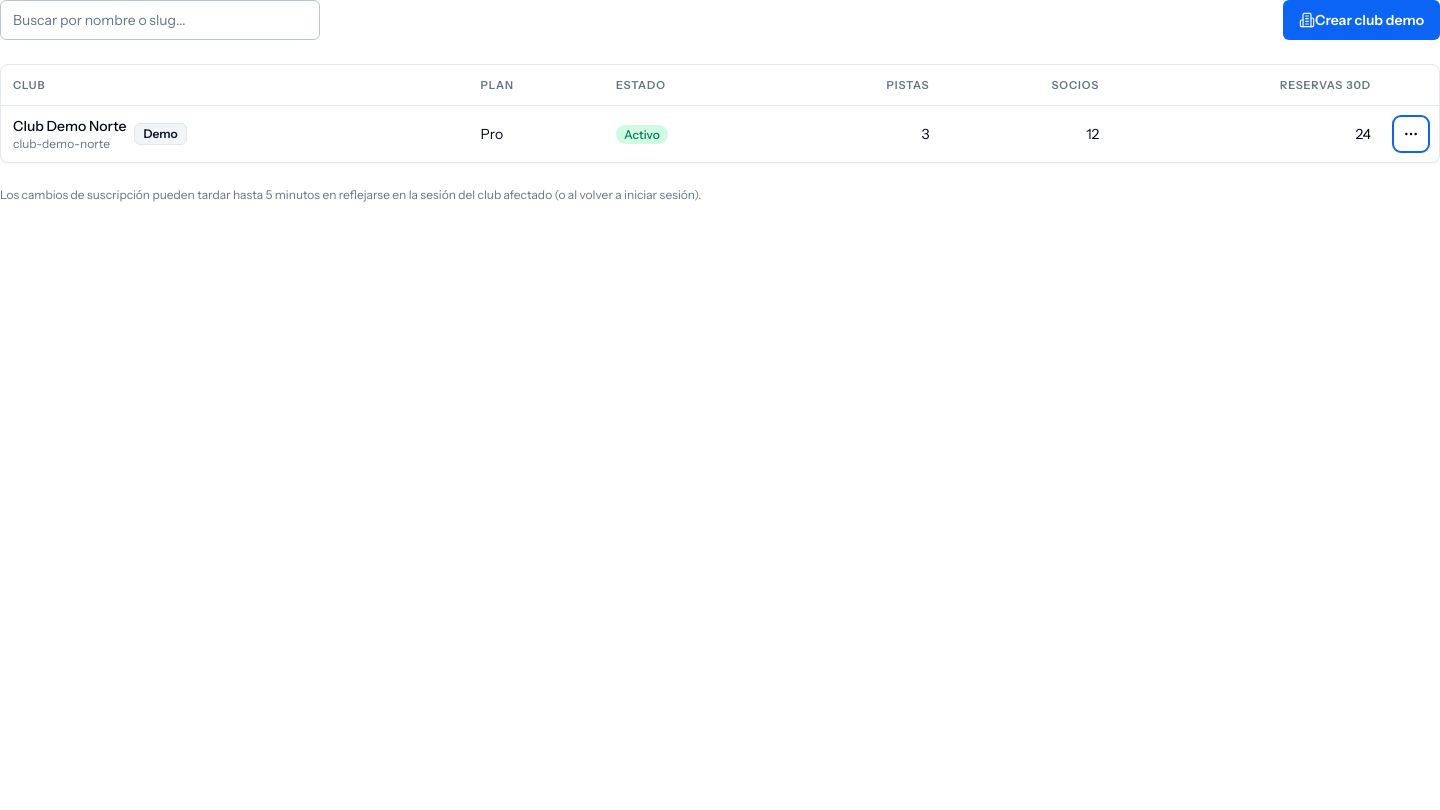
Test: ClubsClient › exige escribir el nombre exacto antes de eliminar un club demo
Press Enter in the button named "Acciones de Club Demo Norte", box [1395,118,1427,150]
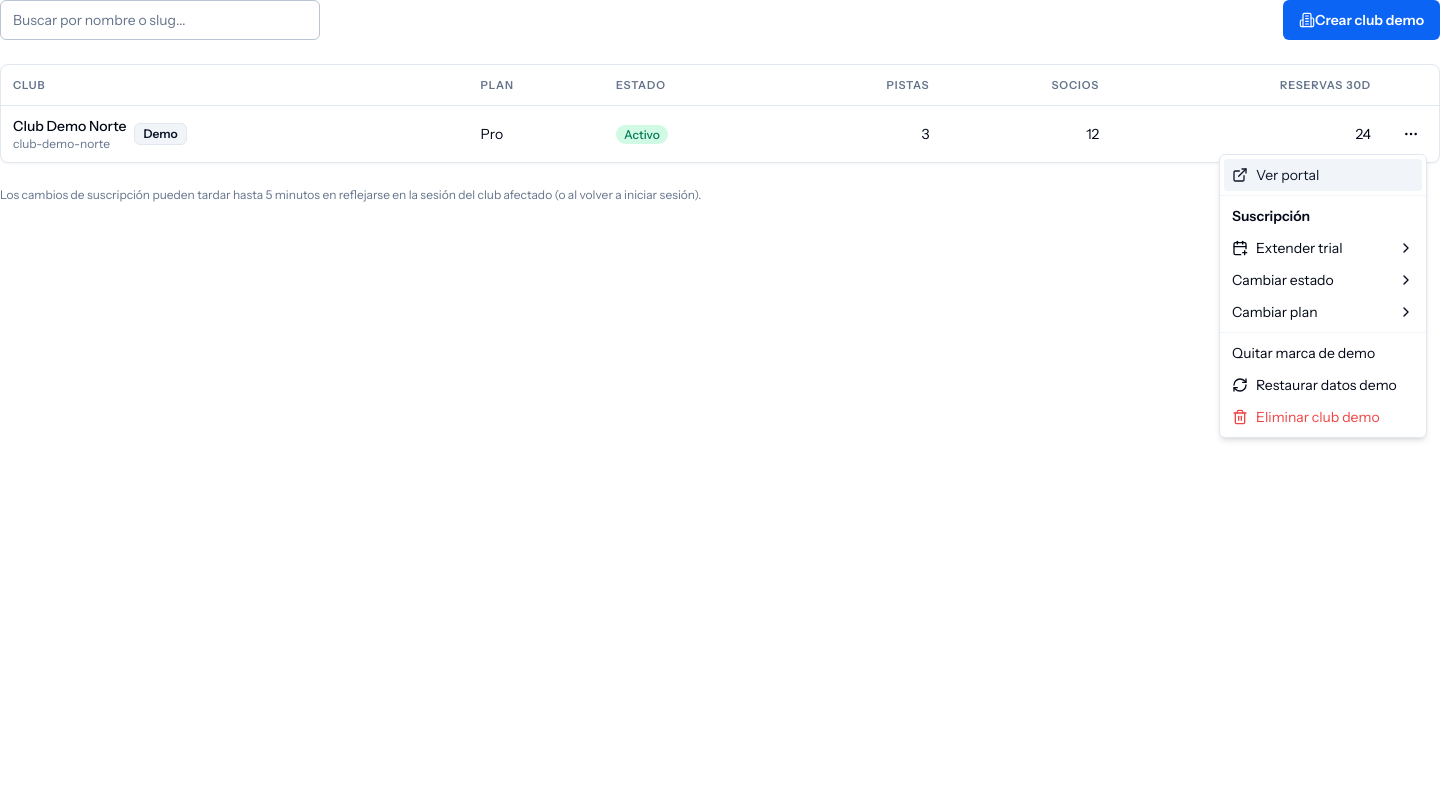
Click the menu item "Eliminar club demo" at (1306, 417), box [1232,408,1380,426]
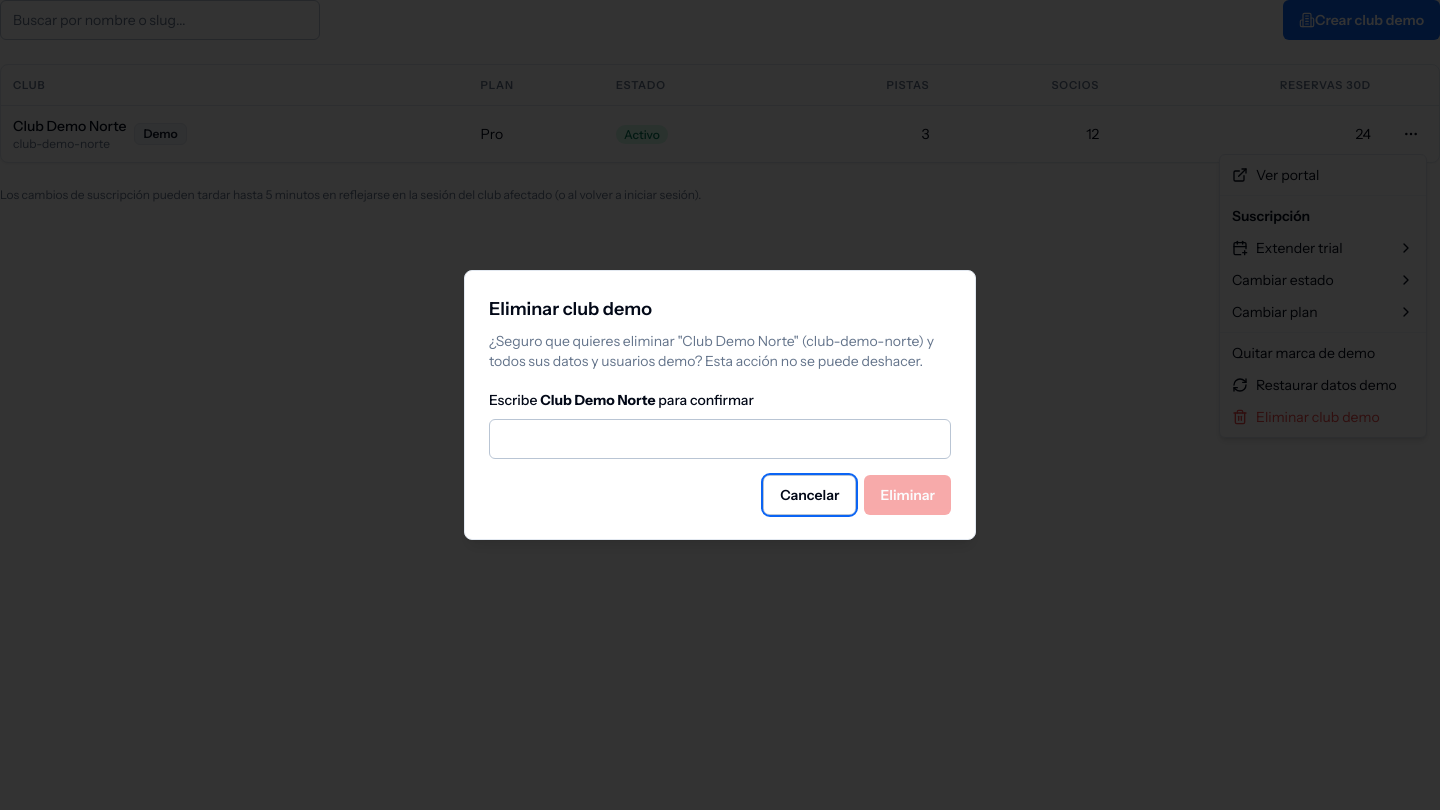
Result: the button "Eliminar" is disabled at [864,475,951,515]
Type "Club Demo" into the field labelled "Escribe Club Demo Norte para confirmar" at (720, 439), box [489,419,951,459]
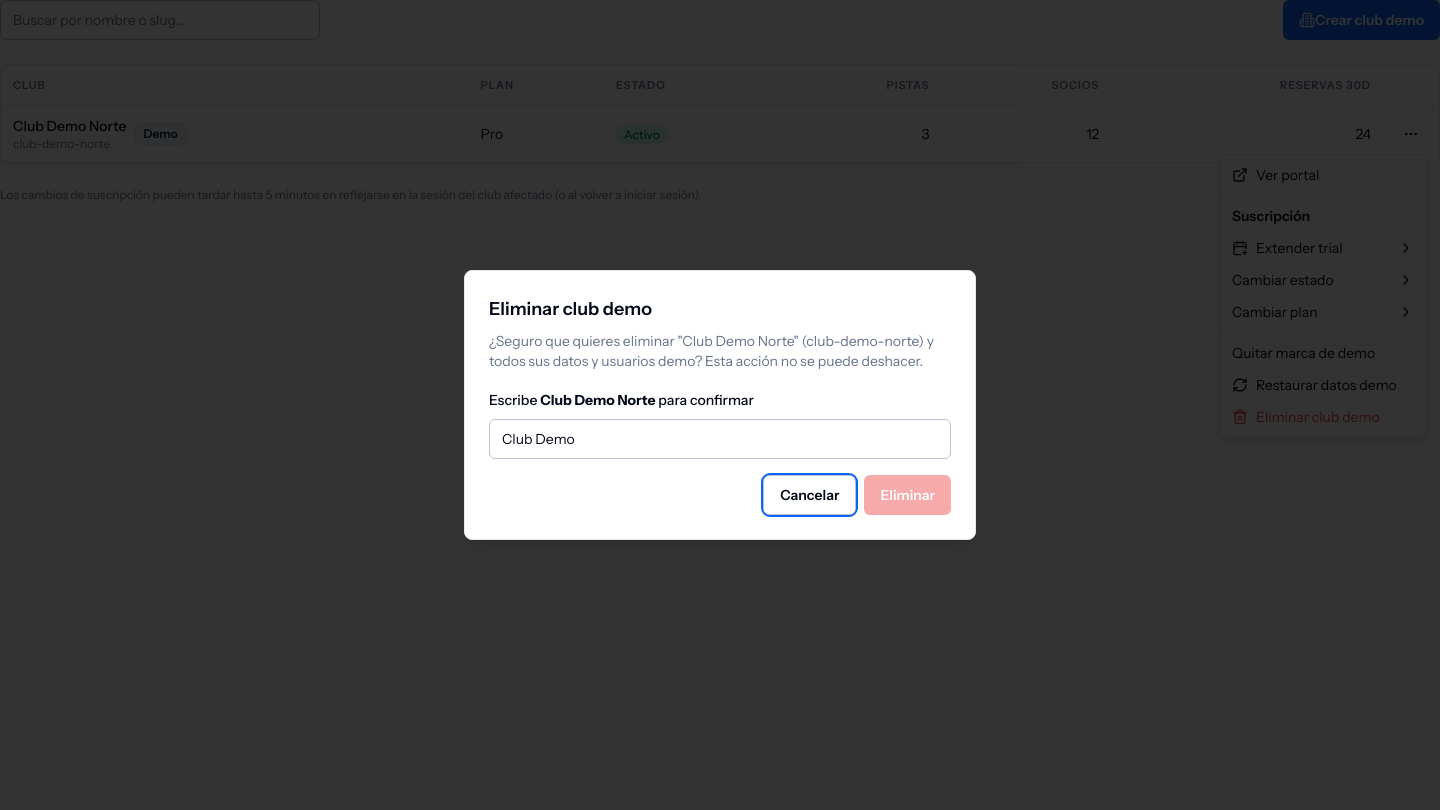
Result: the button "Eliminar" is disabled at [864,475,951,515]
Replace the text in the field labelled "Escribe Club Demo Norte para confirmar" with "Club Demo Norte" at (720, 439), box [489,419,951,459]
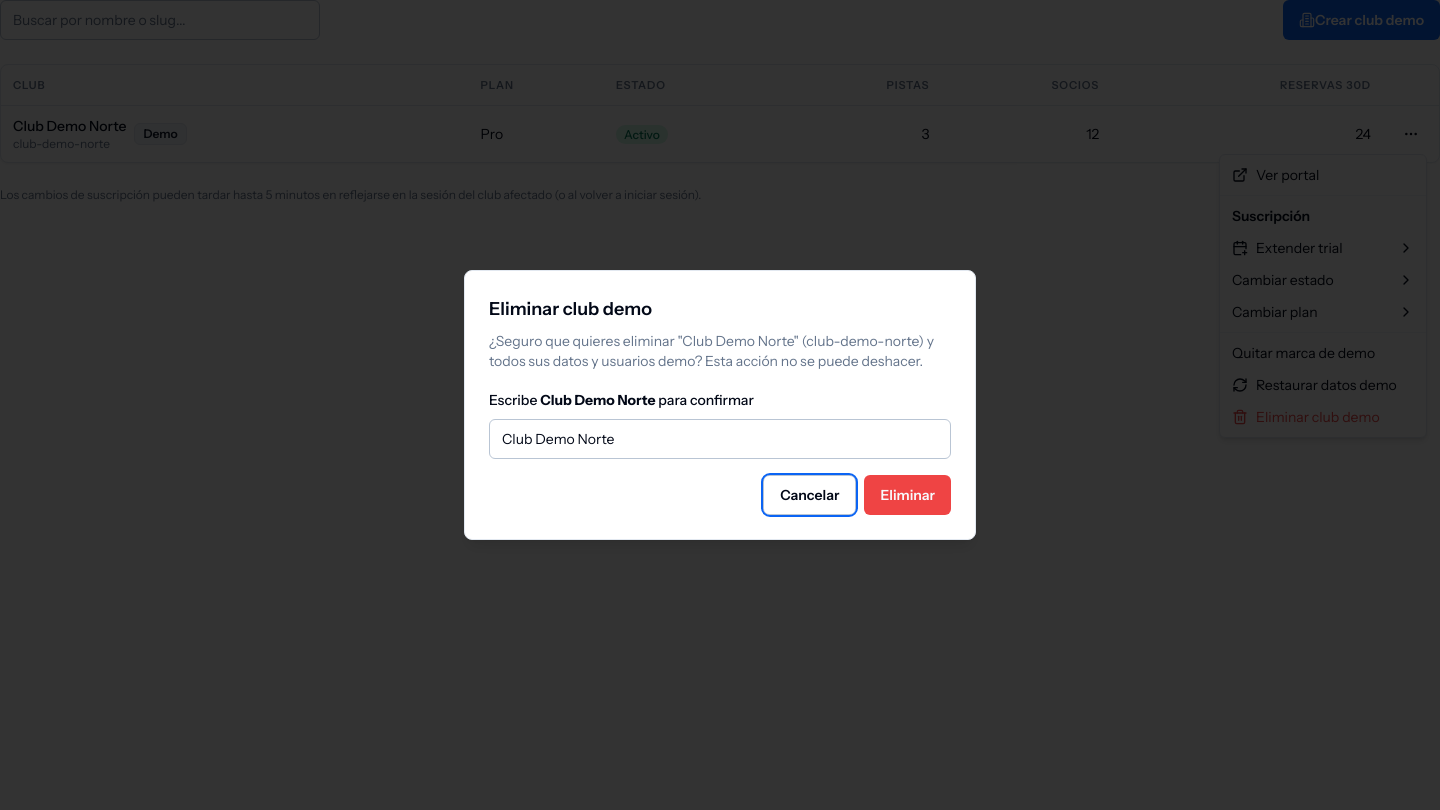
Result: the button "Eliminar" is enabled
Click the button "Eliminar" at (908, 495), box [864,475,951,515]
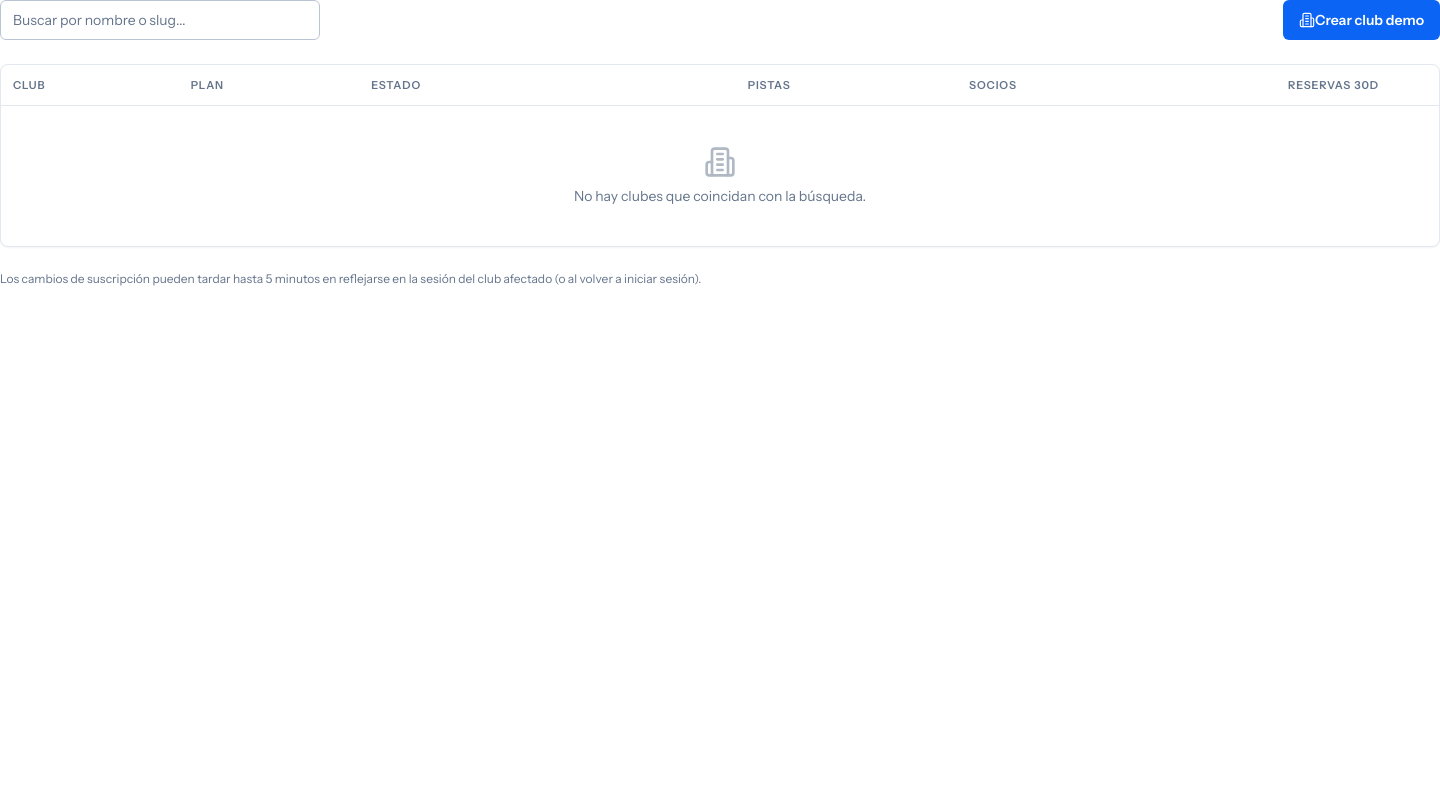
Result: the text "club-demo-norte" is gone
